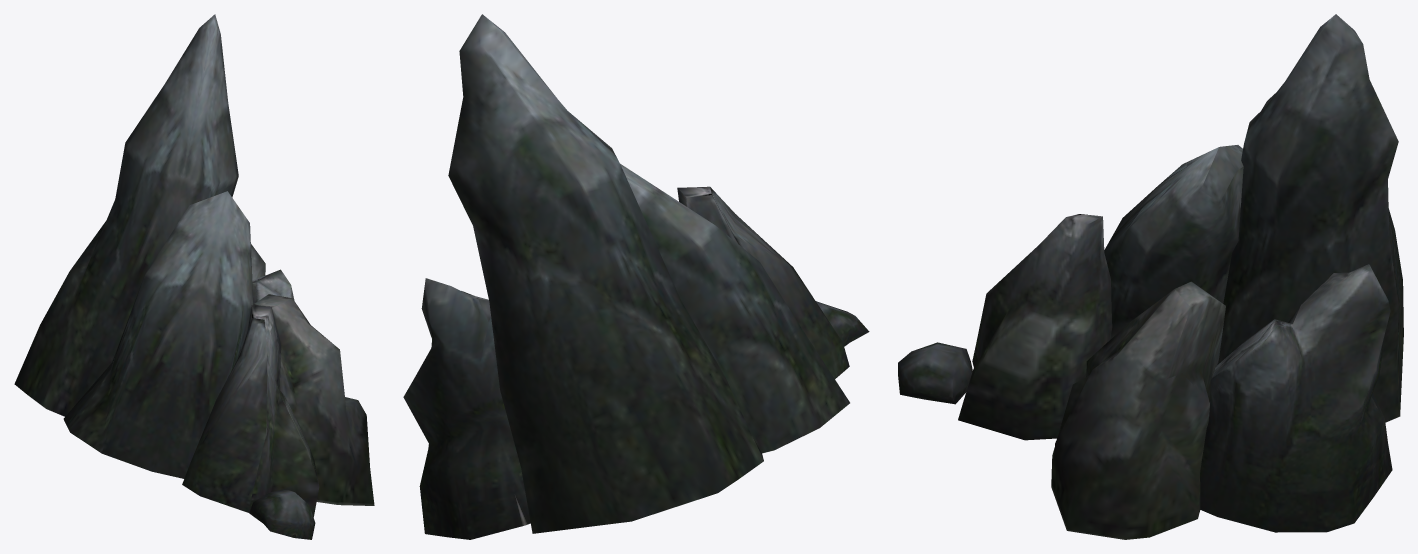
3 renders of one model, left to right at view 1: azimuth 30°, elevation 25°; view 2: azimuth 150°, elevation 25°; view 3: azimuth 270°, elevation 25°, orthographic. The views are drawn at different scales.
Parts seen in each view (by area): view 1: A_ST_08; view 2: A_ST_08; view 3: A_ST_08.
Boxes of the visible parts, left/top/right/bottom form: A_ST_08: left=14, top=14, right=374, bottom=539; A_ST_08: left=403, top=14, right=869, bottom=539; A_ST_08: left=898, top=14, right=1403, bottom=539.
Size of the model in its own units: 246 by 369 by 341.
